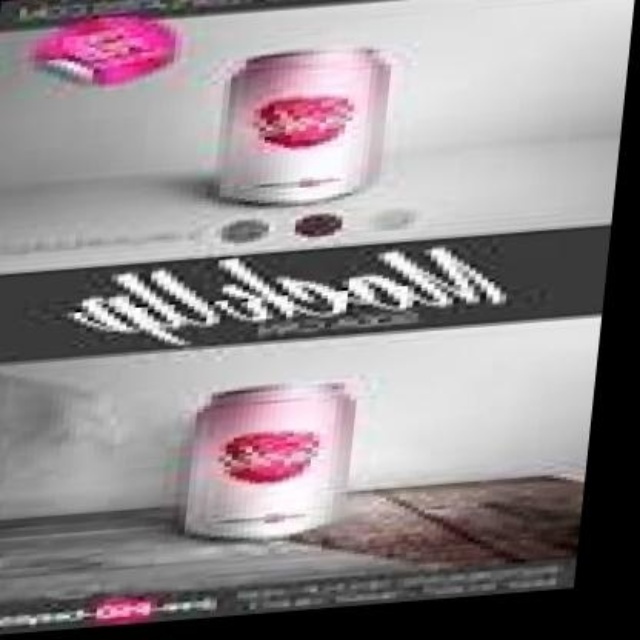trash: (218, 49, 389, 203), (185, 383, 354, 538)
